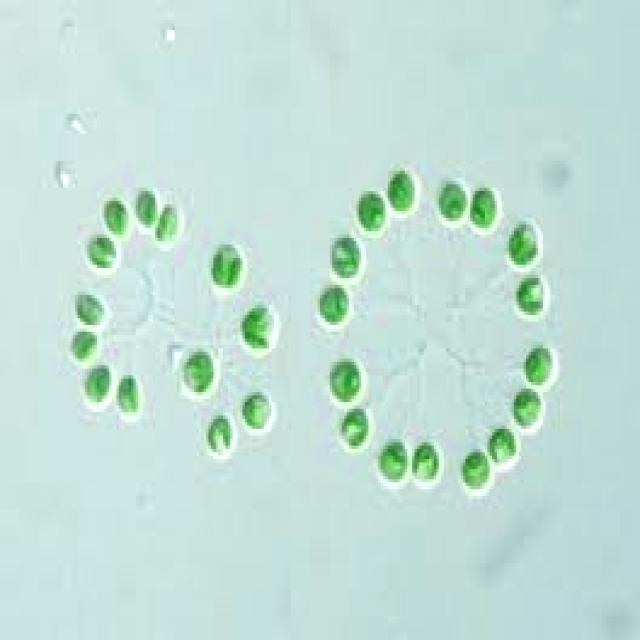Green Algae: (208, 234, 245, 295), (240, 298, 279, 355), (327, 352, 364, 409), (329, 231, 368, 282), (354, 188, 390, 241), (174, 348, 213, 396), (434, 174, 468, 228), (460, 442, 494, 496), (318, 281, 352, 332), (506, 218, 540, 268), (388, 164, 419, 218), (339, 402, 371, 452), (514, 272, 548, 318), (114, 369, 143, 422), (80, 358, 112, 406), (412, 439, 444, 486), (470, 181, 500, 231), (512, 385, 546, 429), (526, 345, 558, 389), (378, 439, 407, 486), (87, 232, 121, 272), (240, 392, 274, 432), (66, 328, 100, 366), (206, 412, 233, 459), (75, 288, 109, 325), (490, 426, 521, 466), (158, 198, 182, 248), (102, 194, 131, 234), (134, 184, 158, 231)
